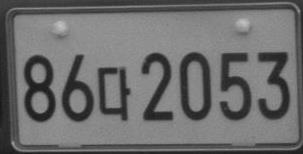0: (178, 50, 212, 121)
2: (141, 51, 174, 121)
3: (257, 51, 290, 120)
5: (219, 51, 253, 121)
6: (61, 54, 94, 122)
8: (22, 53, 56, 123)
다: (97, 65, 132, 121)
